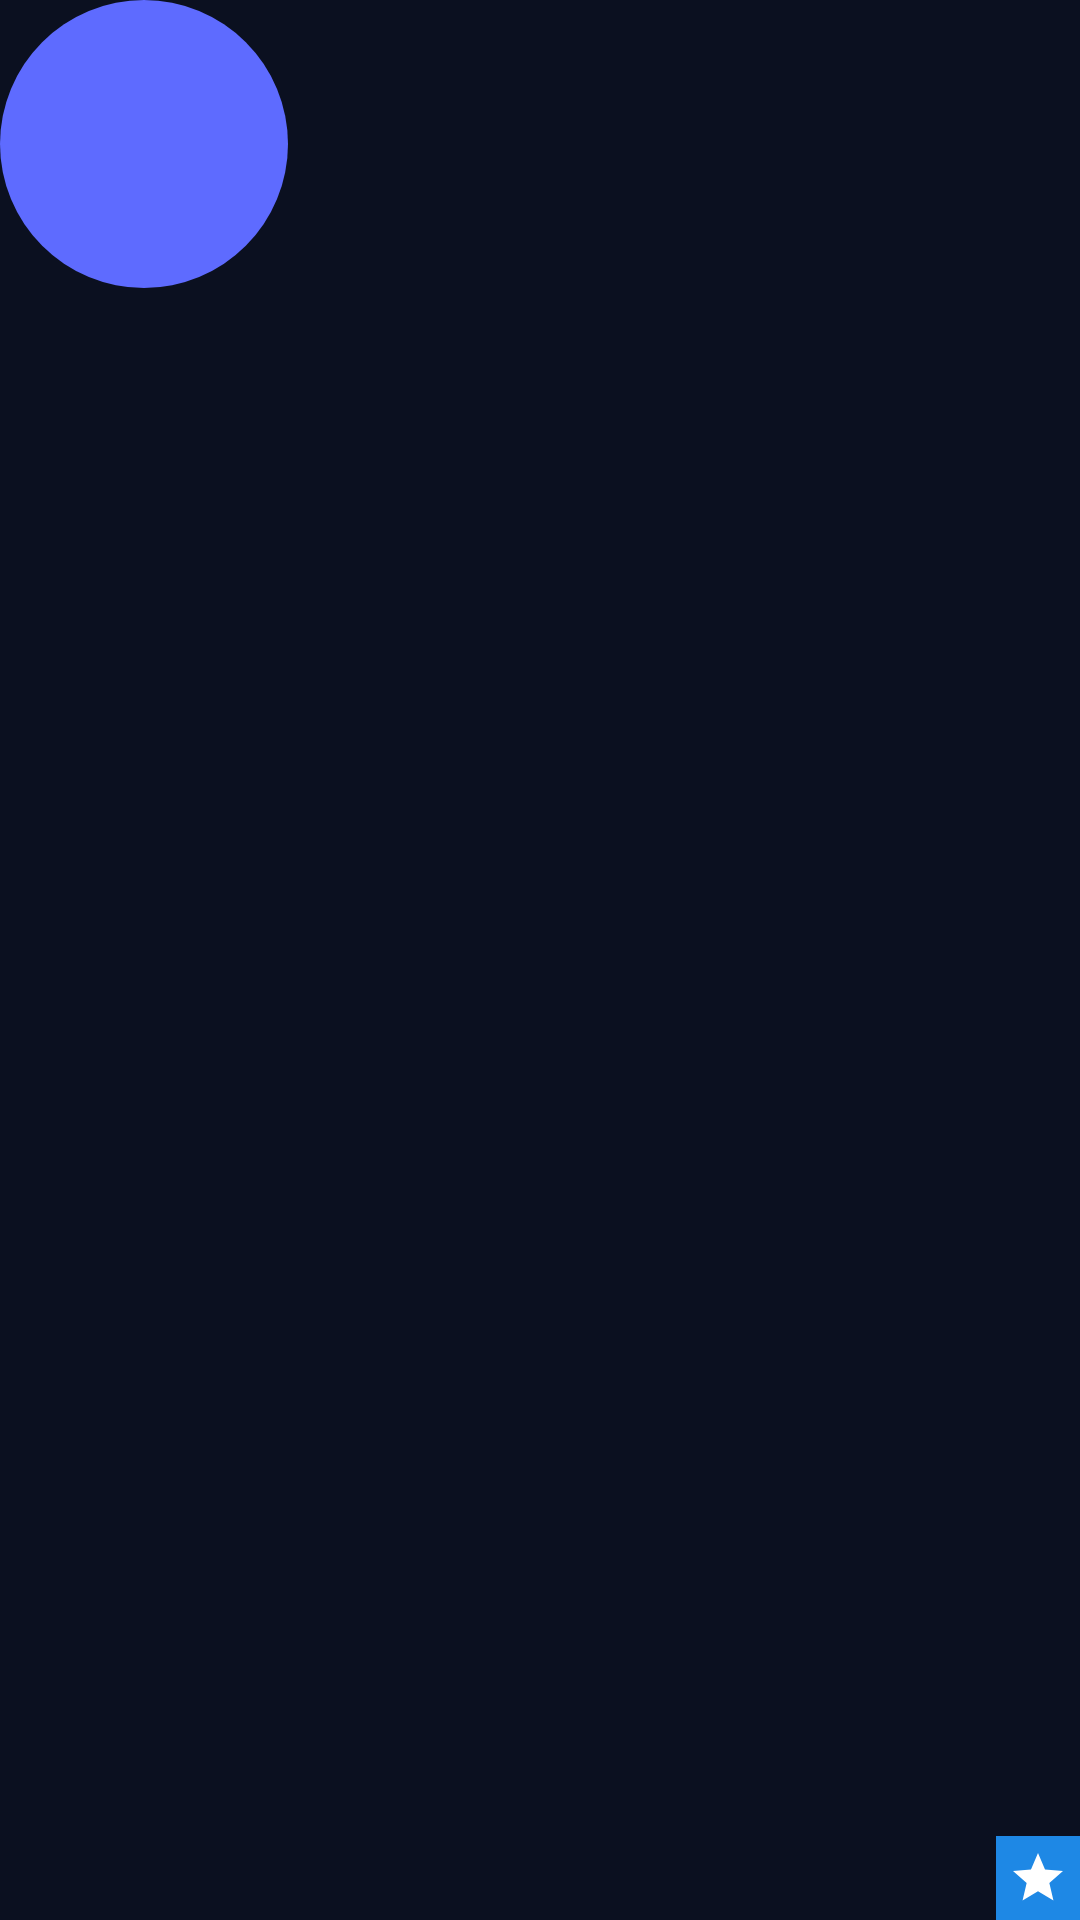

Icons on this 1080x1920 Android screen, each with the point to tap as (x,y):
Admin badge: (1038,1878)
